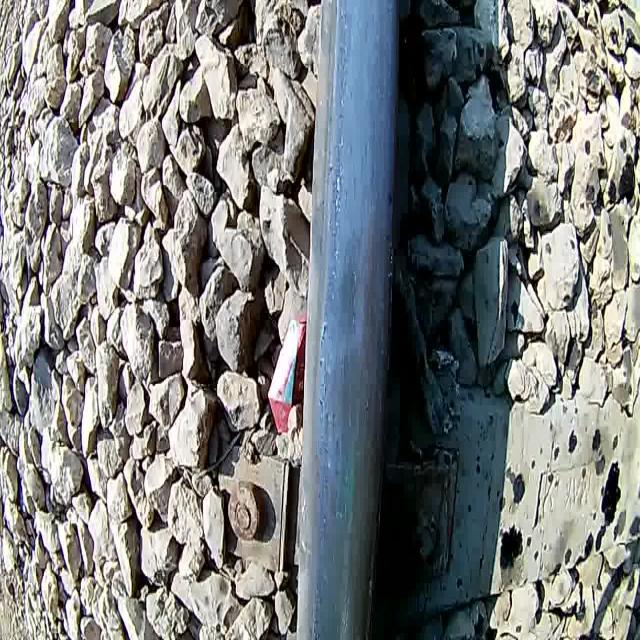Flakings: (322, 6, 356, 250)
Squats: (319, 347, 372, 442), (333, 258, 362, 344)
